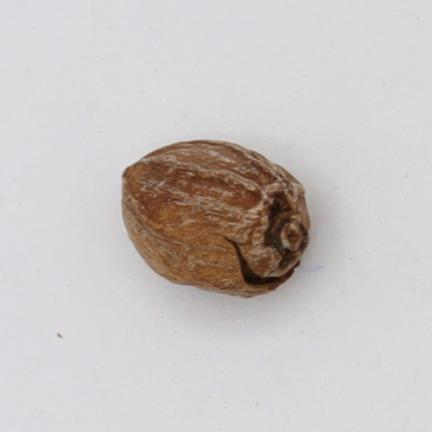husk: (122, 141, 309, 297)
